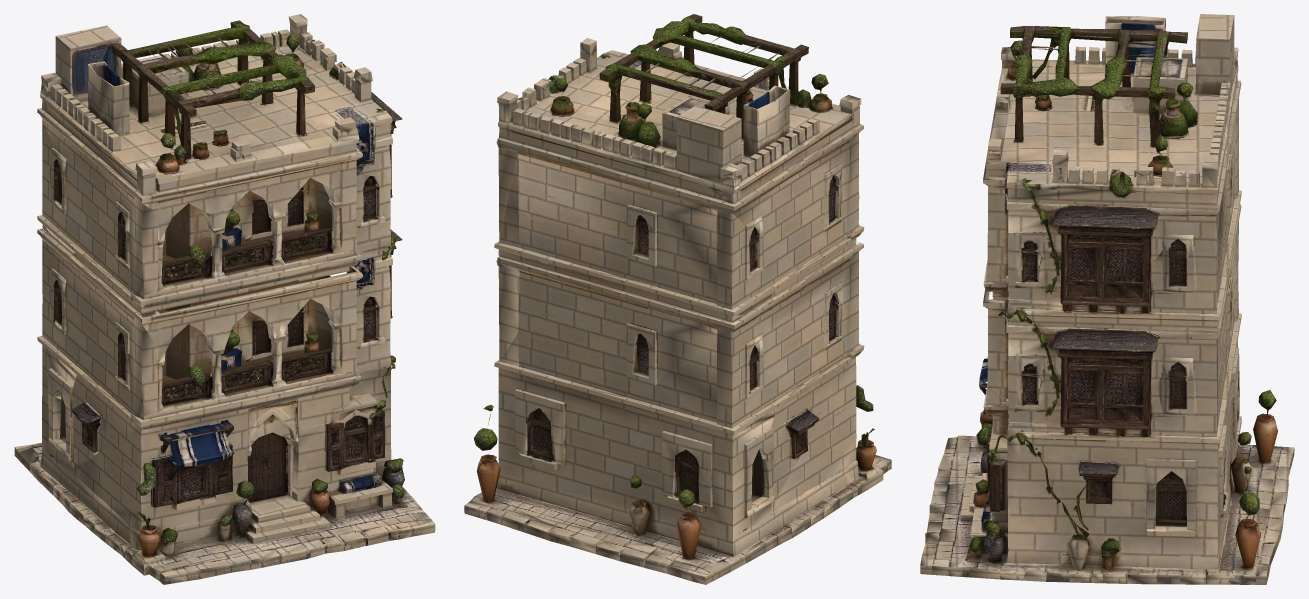
File: house-4-lod.glb
3 views of the same model, side by side, from view 1: azimuth 30°, elevation 25°; view 2: azimuth 150°, elevation 25°; view 3: azimuth 270°, elevation 25° (orthographic). The views are drawn at different scales.
Size of the model in its own units: 7.31 by 10.33 by 7.73.
1 material, 1 textured.
